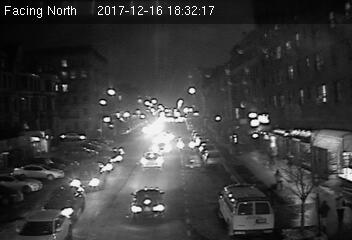car: (44, 184, 88, 219), (129, 188, 168, 220), (140, 152, 165, 173), (204, 150, 224, 166), (176, 136, 196, 151)
police: (216, 181, 274, 234)
